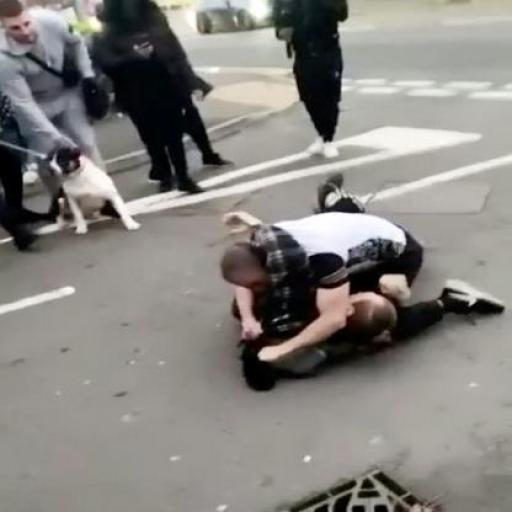Fighting: (223, 193, 502, 388)
